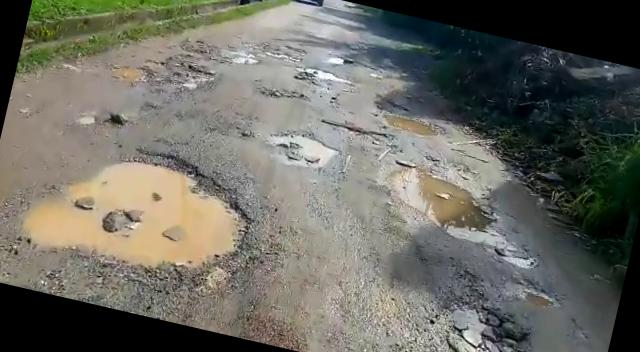pothole: (12, 123, 268, 302), (376, 156, 508, 238), (106, 39, 218, 104), (268, 125, 337, 171), (320, 118, 400, 150), (438, 219, 514, 252), (378, 107, 448, 141), (506, 274, 560, 311), (296, 62, 358, 88), (256, 81, 310, 106)
